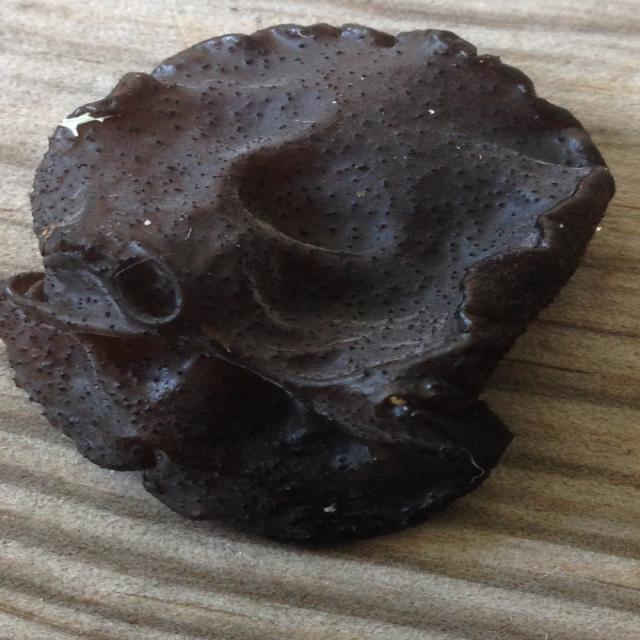Auricularia auricula: (3, 26, 616, 541)
